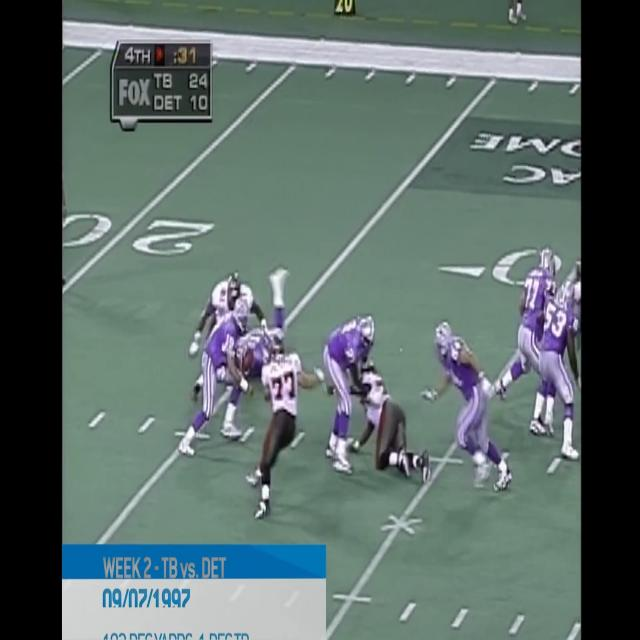players: (424, 321, 514, 493), (324, 358, 432, 483), (253, 340, 323, 518), (494, 245, 558, 435), (178, 298, 245, 461), (531, 280, 581, 461), (228, 263, 294, 386), (324, 316, 374, 476), (186, 274, 253, 377)
